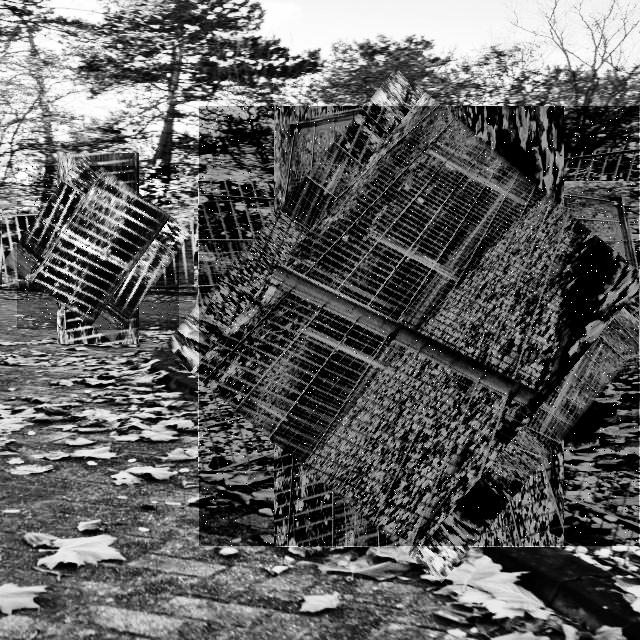fences: (199, 106, 639, 546), (17, 166, 179, 330)
